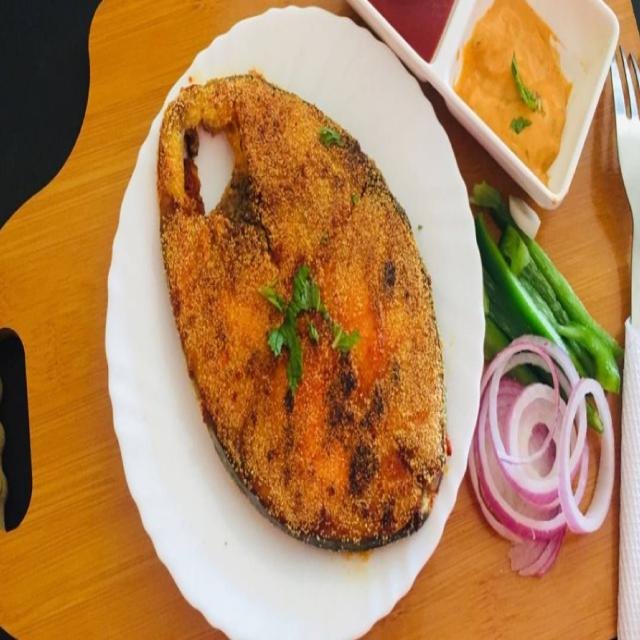FISH FRY: (159, 31, 456, 561)
RED CHUTNEY: (457, 0, 569, 174)
